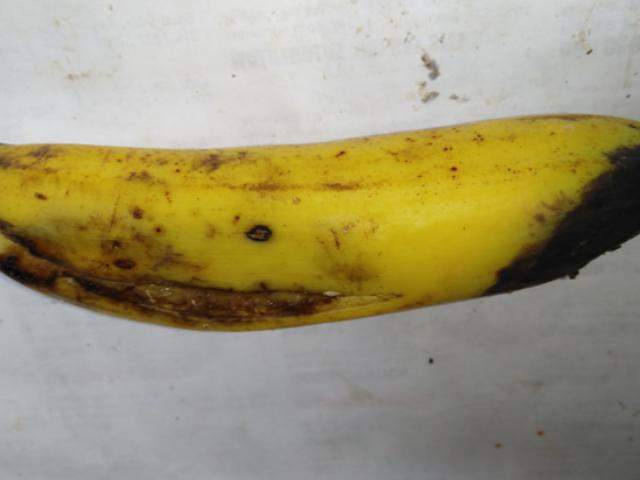rotten: (0, 139, 375, 401), (443, 106, 635, 329)
